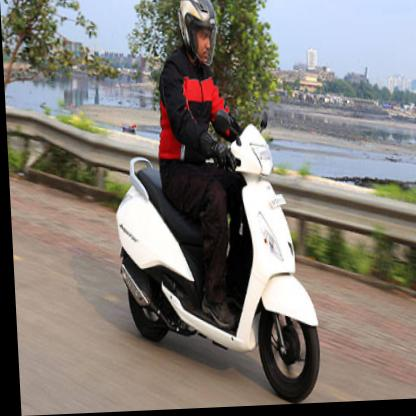With Helmet: (175, 0, 221, 73)
